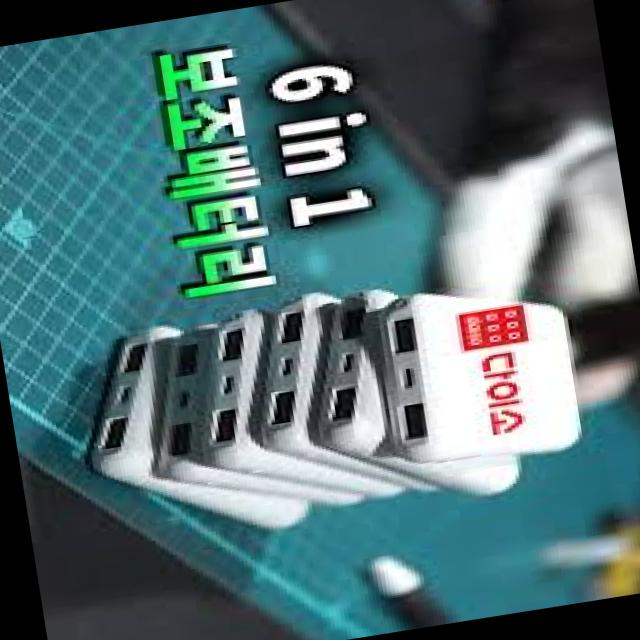portable-charger: (59, 310, 324, 560), (294, 270, 528, 520), (366, 272, 589, 475), (139, 318, 353, 529), (174, 304, 360, 532), (237, 285, 408, 522)
